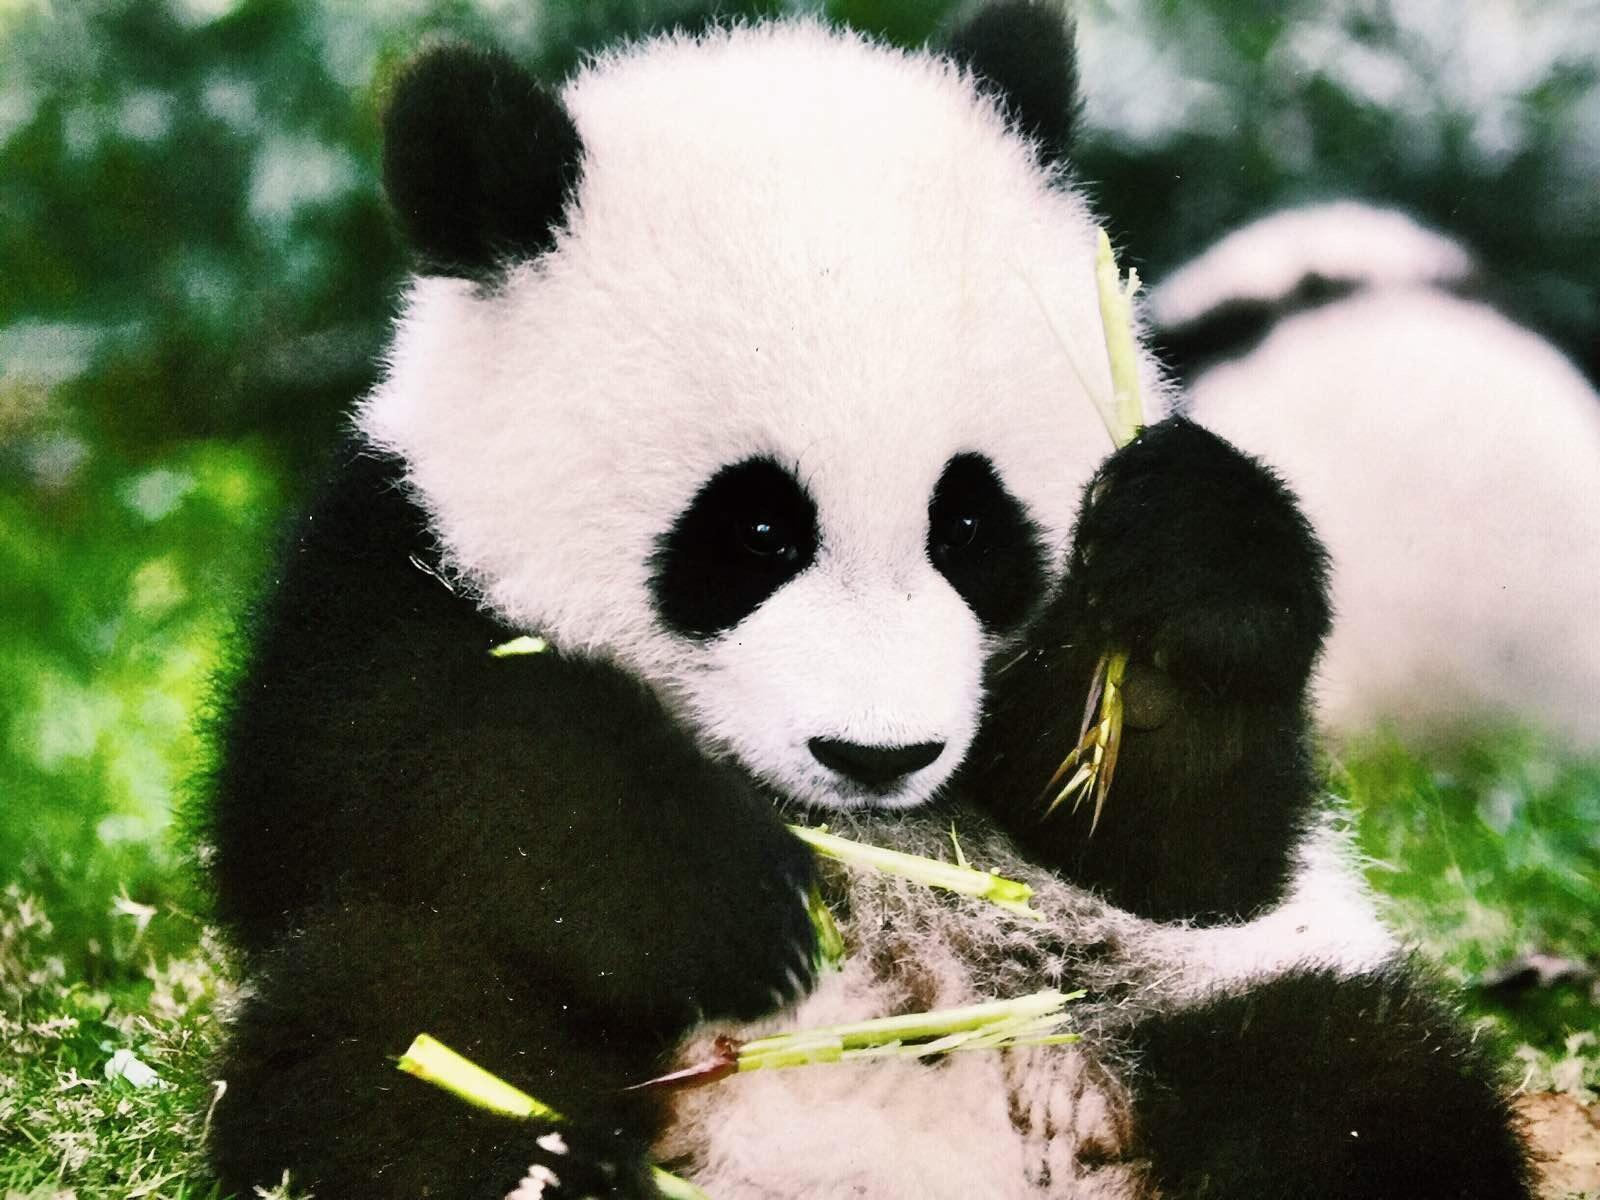panda: (190, 8, 1547, 1199)
